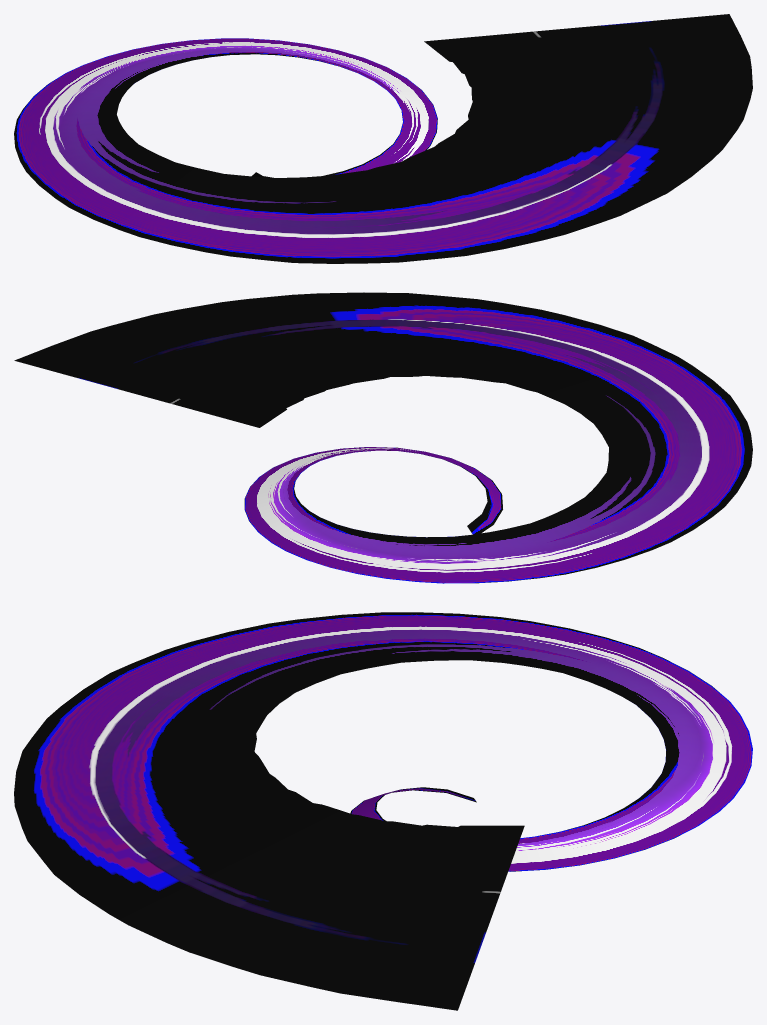
Rendered from Mesh_ljq_trail01.FBX.
The picture shows the model from 3 angles, top to bottom: view 1: azimuth 30°, elevation 25°; view 2: azimuth 150°, elevation 25°; view 3: azimuth 270°, elevation 25°; orthographic projection. The views are drawn at different scales.
Parts seen in each view (by area): view 1: Plane009; view 2: Plane009; view 3: Plane009.
Boxes of the visible parts, x1,y1,x2,y2 form: Plane009: [14, 14, 752, 263]; Plane009: [14, 292, 752, 583]; Plane009: [14, 612, 752, 1010].
Size of the model in its own units: 327 by 34.99 by 254.
